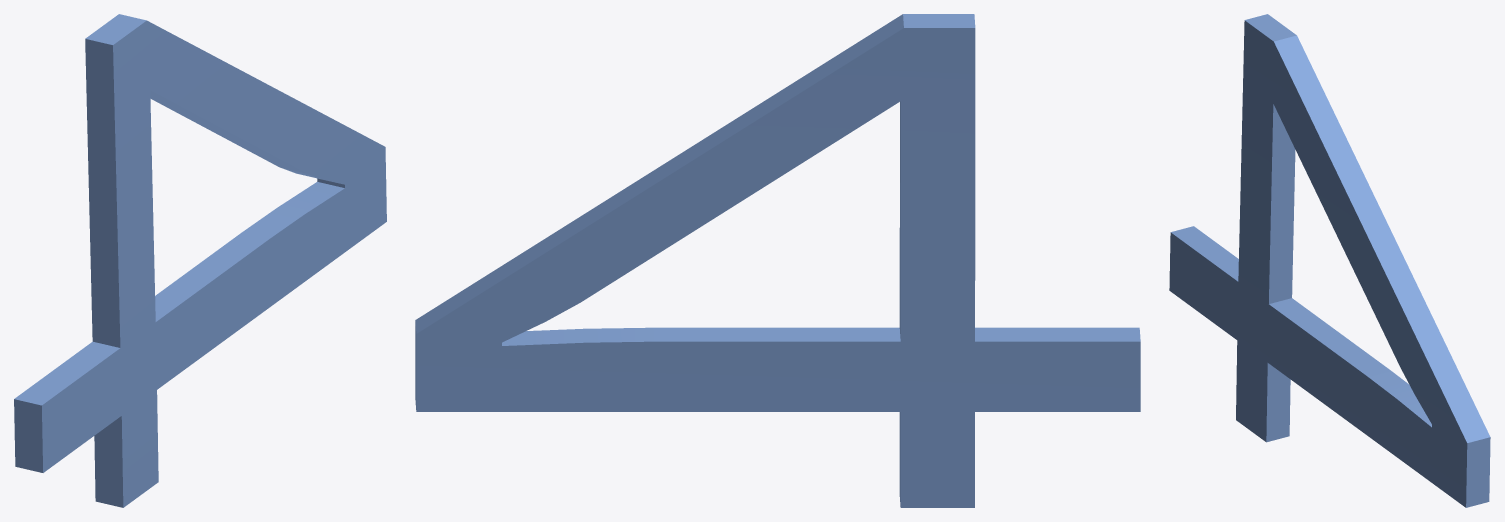
The model's file is New_Number_4.gltf.
The picture shows the model from 3 angles, left to right: view 1: azimuth 30°, elevation 25°; view 2: azimuth 150°, elevation 25°; view 3: azimuth 270°, elevation 25°; orthographic projection. The views are drawn at different scales.
Visible parts, largest first — view 1: Part 13; view 2: Part 13; view 3: Part 13.
Part boxes in pixels (bbox=[...]): Part 13: bbox=[14, 14, 386, 507]; Part 13: bbox=[415, 14, 1140, 507]; Part 13: bbox=[1169, 14, 1490, 507].
Bounding box in the file's own units: 0.00492 × 0.00408 × 0.00299.
